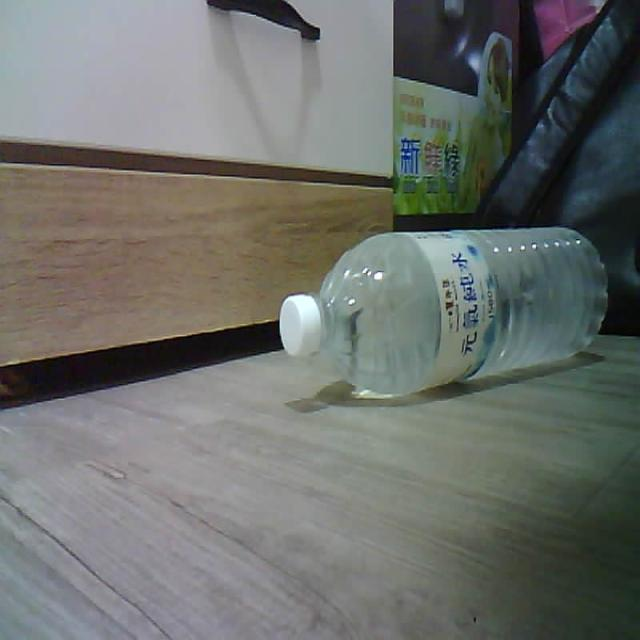bottle: (280, 227, 607, 395)
